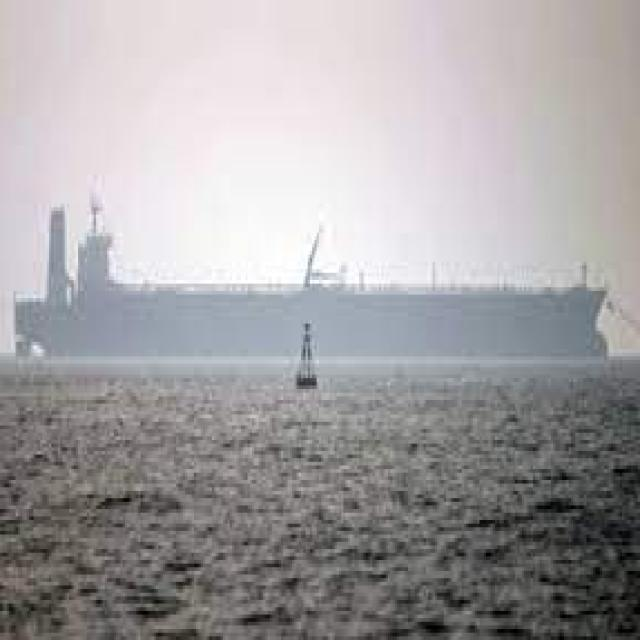cargoship: (11, 213, 610, 363)
